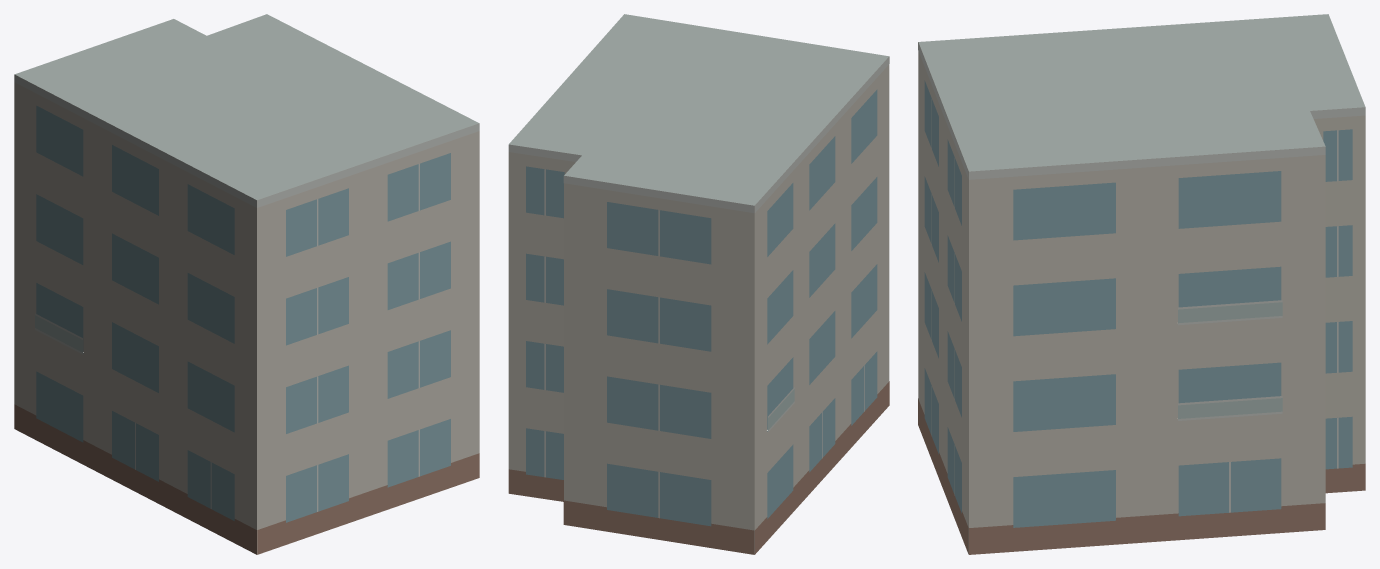
File: survey-upis-32702635.glb
3 renders of one model, left to right at view 1: azimuth 30°, elevation 25°; view 2: azimuth 150°, elevation 25°; view 3: azimuth 270°, elevation 25°, orthographic. The views are drawn at different scales.
Visible parts, largest first — view 1: survey-upis-32702635.tmp; view 2: survey-upis-32702635.tmp; view 3: survey-upis-32702635.tmp.
Part boxes in pixels (box(x1,y1,x2,y2)): survey-upis-32702635.tmp: box(14, 14, 479, 554); survey-upis-32702635.tmp: box(508, 14, 889, 554); survey-upis-32702635.tmp: box(918, 14, 1365, 554).
Size of the model in its own units: 9.89 by 11.2 by 11.86.
